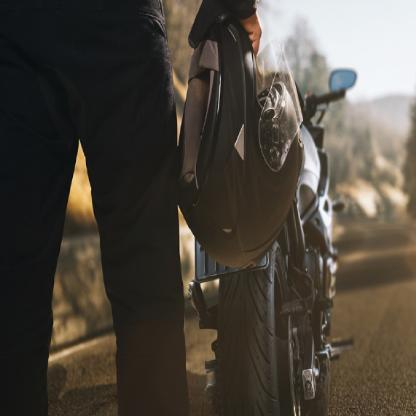helmet: (174, 16, 306, 269)
